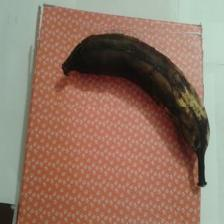Banana Rotten: (56, 23, 204, 107)
